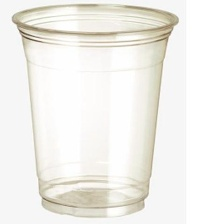glass: (9, 0, 180, 223)
